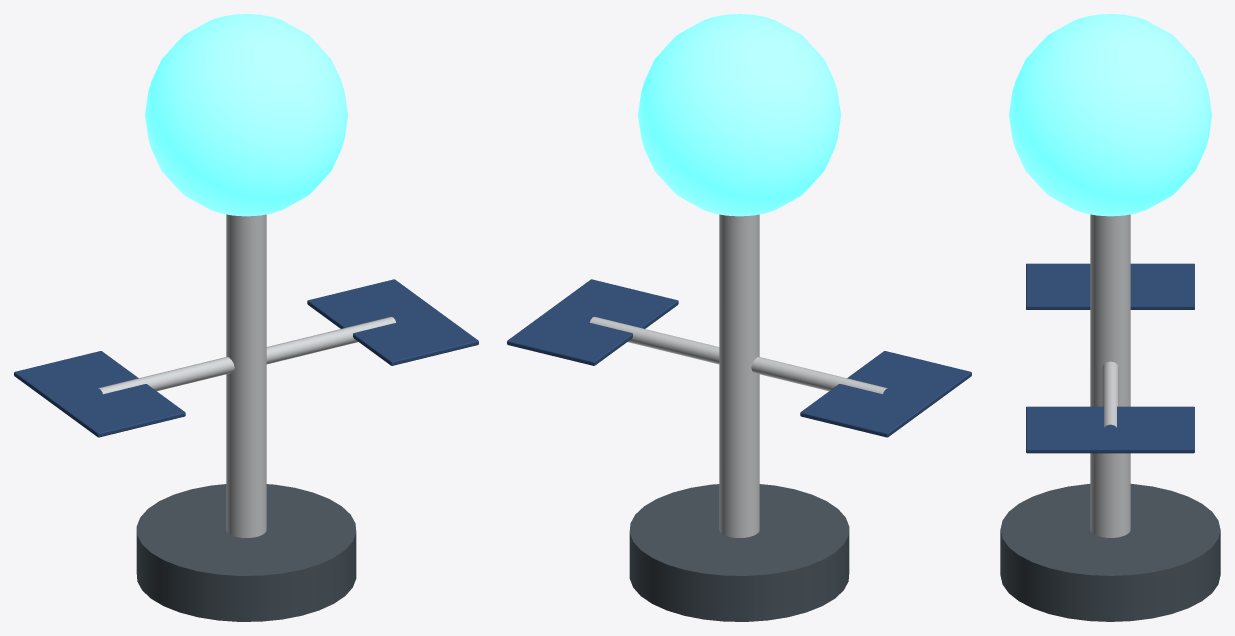
3 views of the same model, side by side, from view 1: azimuth 30°, elevation 25°; view 2: azimuth 150°, elevation 25°; view 3: azimuth 270°, elevation 25° (orthographic).
Visible parts, largest first — view 1: warp-beacon; view 2: warp-beacon; view 3: warp-beacon.
Part boxes in pixels (x1=…): warp-beacon: x1=14, y1=14, x2=478, y2=621; warp-beacon: x1=507, y1=14, x2=971, y2=621; warp-beacon: x1=1000, y1=14, x2=1220, y2=621.
Bounding box in the file's own units: 2.6 × 3.6 × 1.3.
